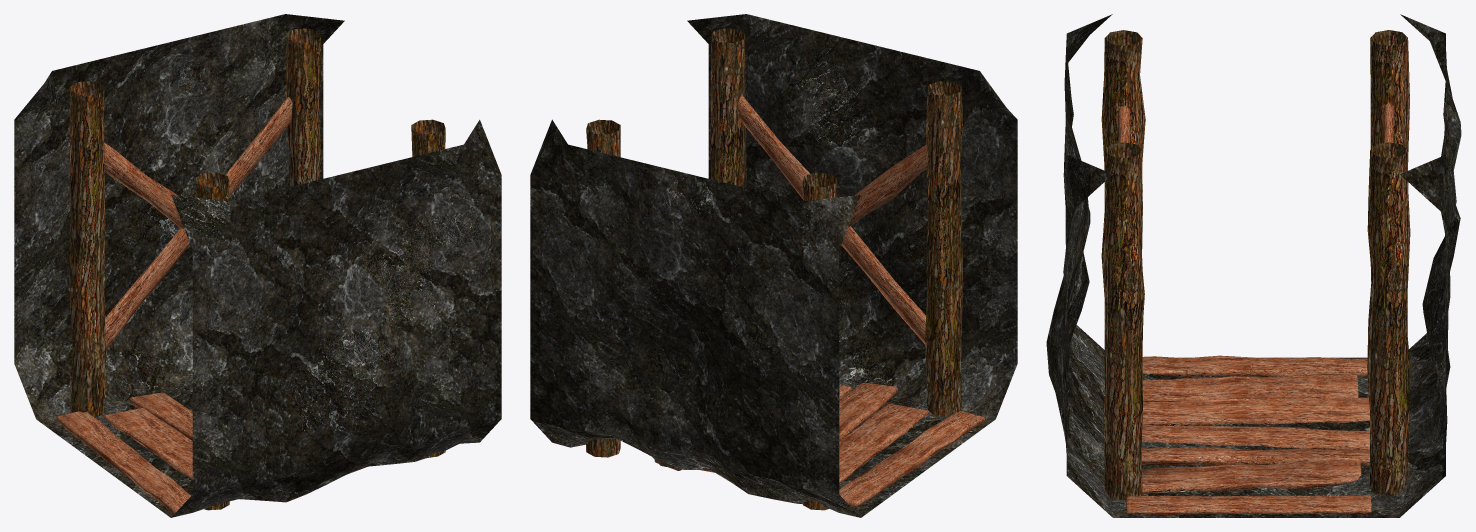
File: Cave_010.fbx
The picture shows the model from 3 angles, left to right: view 1: azimuth 30°, elevation 25°; view 2: azimuth 150°, elevation 25°; view 3: azimuth 270°, elevation 25°; orthographic projection. The views are drawn at different scales.
Parts seen in each view (by area): view 1: Cave.010; view 2: Cave.010; view 3: Cave.010.
Boxes of the visible parts, box(x1,y1,x2,y2) form: Cave.010: box(14, 14, 501, 517); Cave.010: box(530, 14, 1017, 517); Cave.010: box(1046, 14, 1461, 517).
Bounding box in the file's own units: 300 × 308 × 328.
